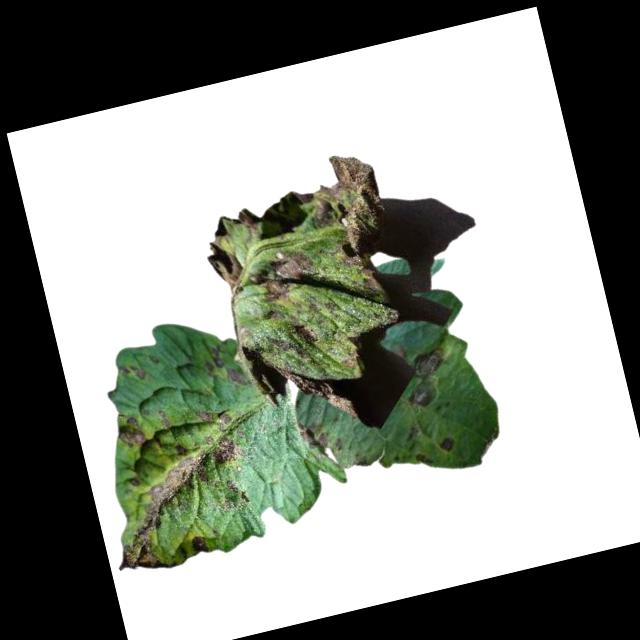Early_blight: (100, 431, 266, 577), (299, 148, 402, 305), (273, 351, 352, 432), (247, 245, 324, 308), (401, 347, 455, 408), (201, 234, 248, 290), (205, 343, 247, 393), (112, 412, 148, 451), (234, 203, 265, 246), (195, 402, 235, 433), (292, 319, 318, 349), (268, 333, 292, 357), (438, 435, 458, 454)
